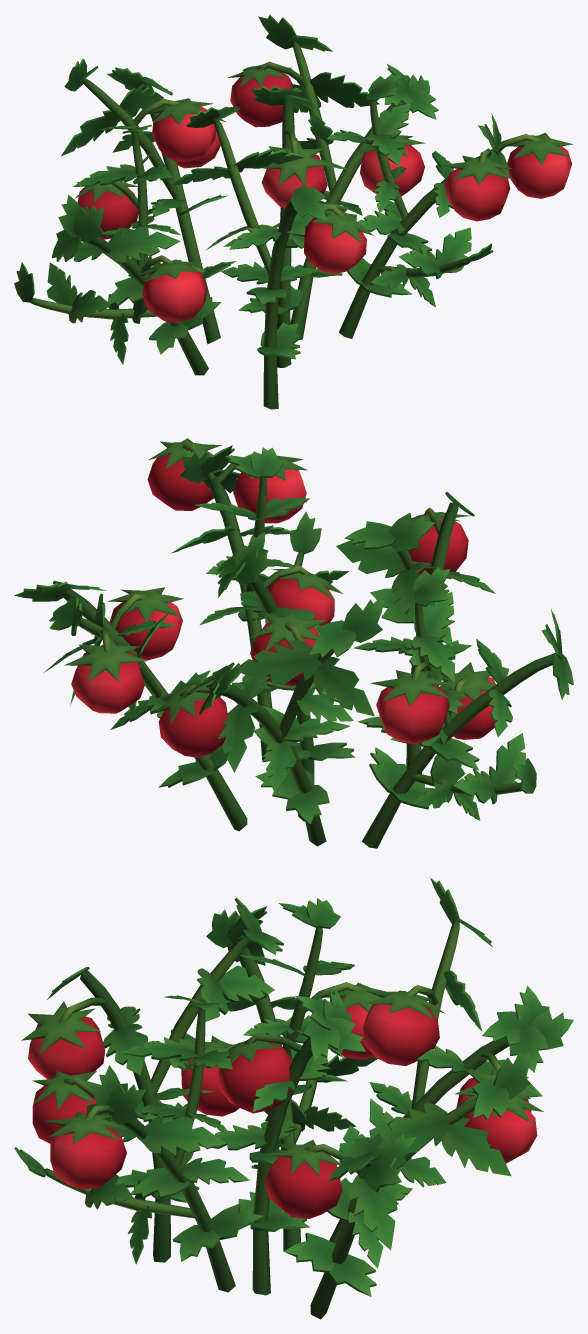
File: SM_Plant_Tomato_Lv3.fbx
3 renders of one model, top to bottom at view 1: azimuth 30°, elevation 25°; view 2: azimuth 150°, elevation 25°; view 3: azimuth 270°, elevation 25°, orthographic. The views are drawn at different scales.
Parts seen in each view (by area): view 1: SM_Plant_Tomato_Lv3; view 2: SM_Plant_Tomato_Lv3; view 3: SM_Plant_Tomato_Lv3.
Boxes of the visible parts, bbox=[...] form: SM_Plant_Tomato_Lv3: bbox=[14, 14, 573, 409]; SM_Plant_Tomato_Lv3: bbox=[14, 438, 573, 848]; SM_Plant_Tomato_Lv3: bbox=[14, 878, 573, 1319].
Bounding box in the file's own units: 84.97 × 52.95 × 78.06.
